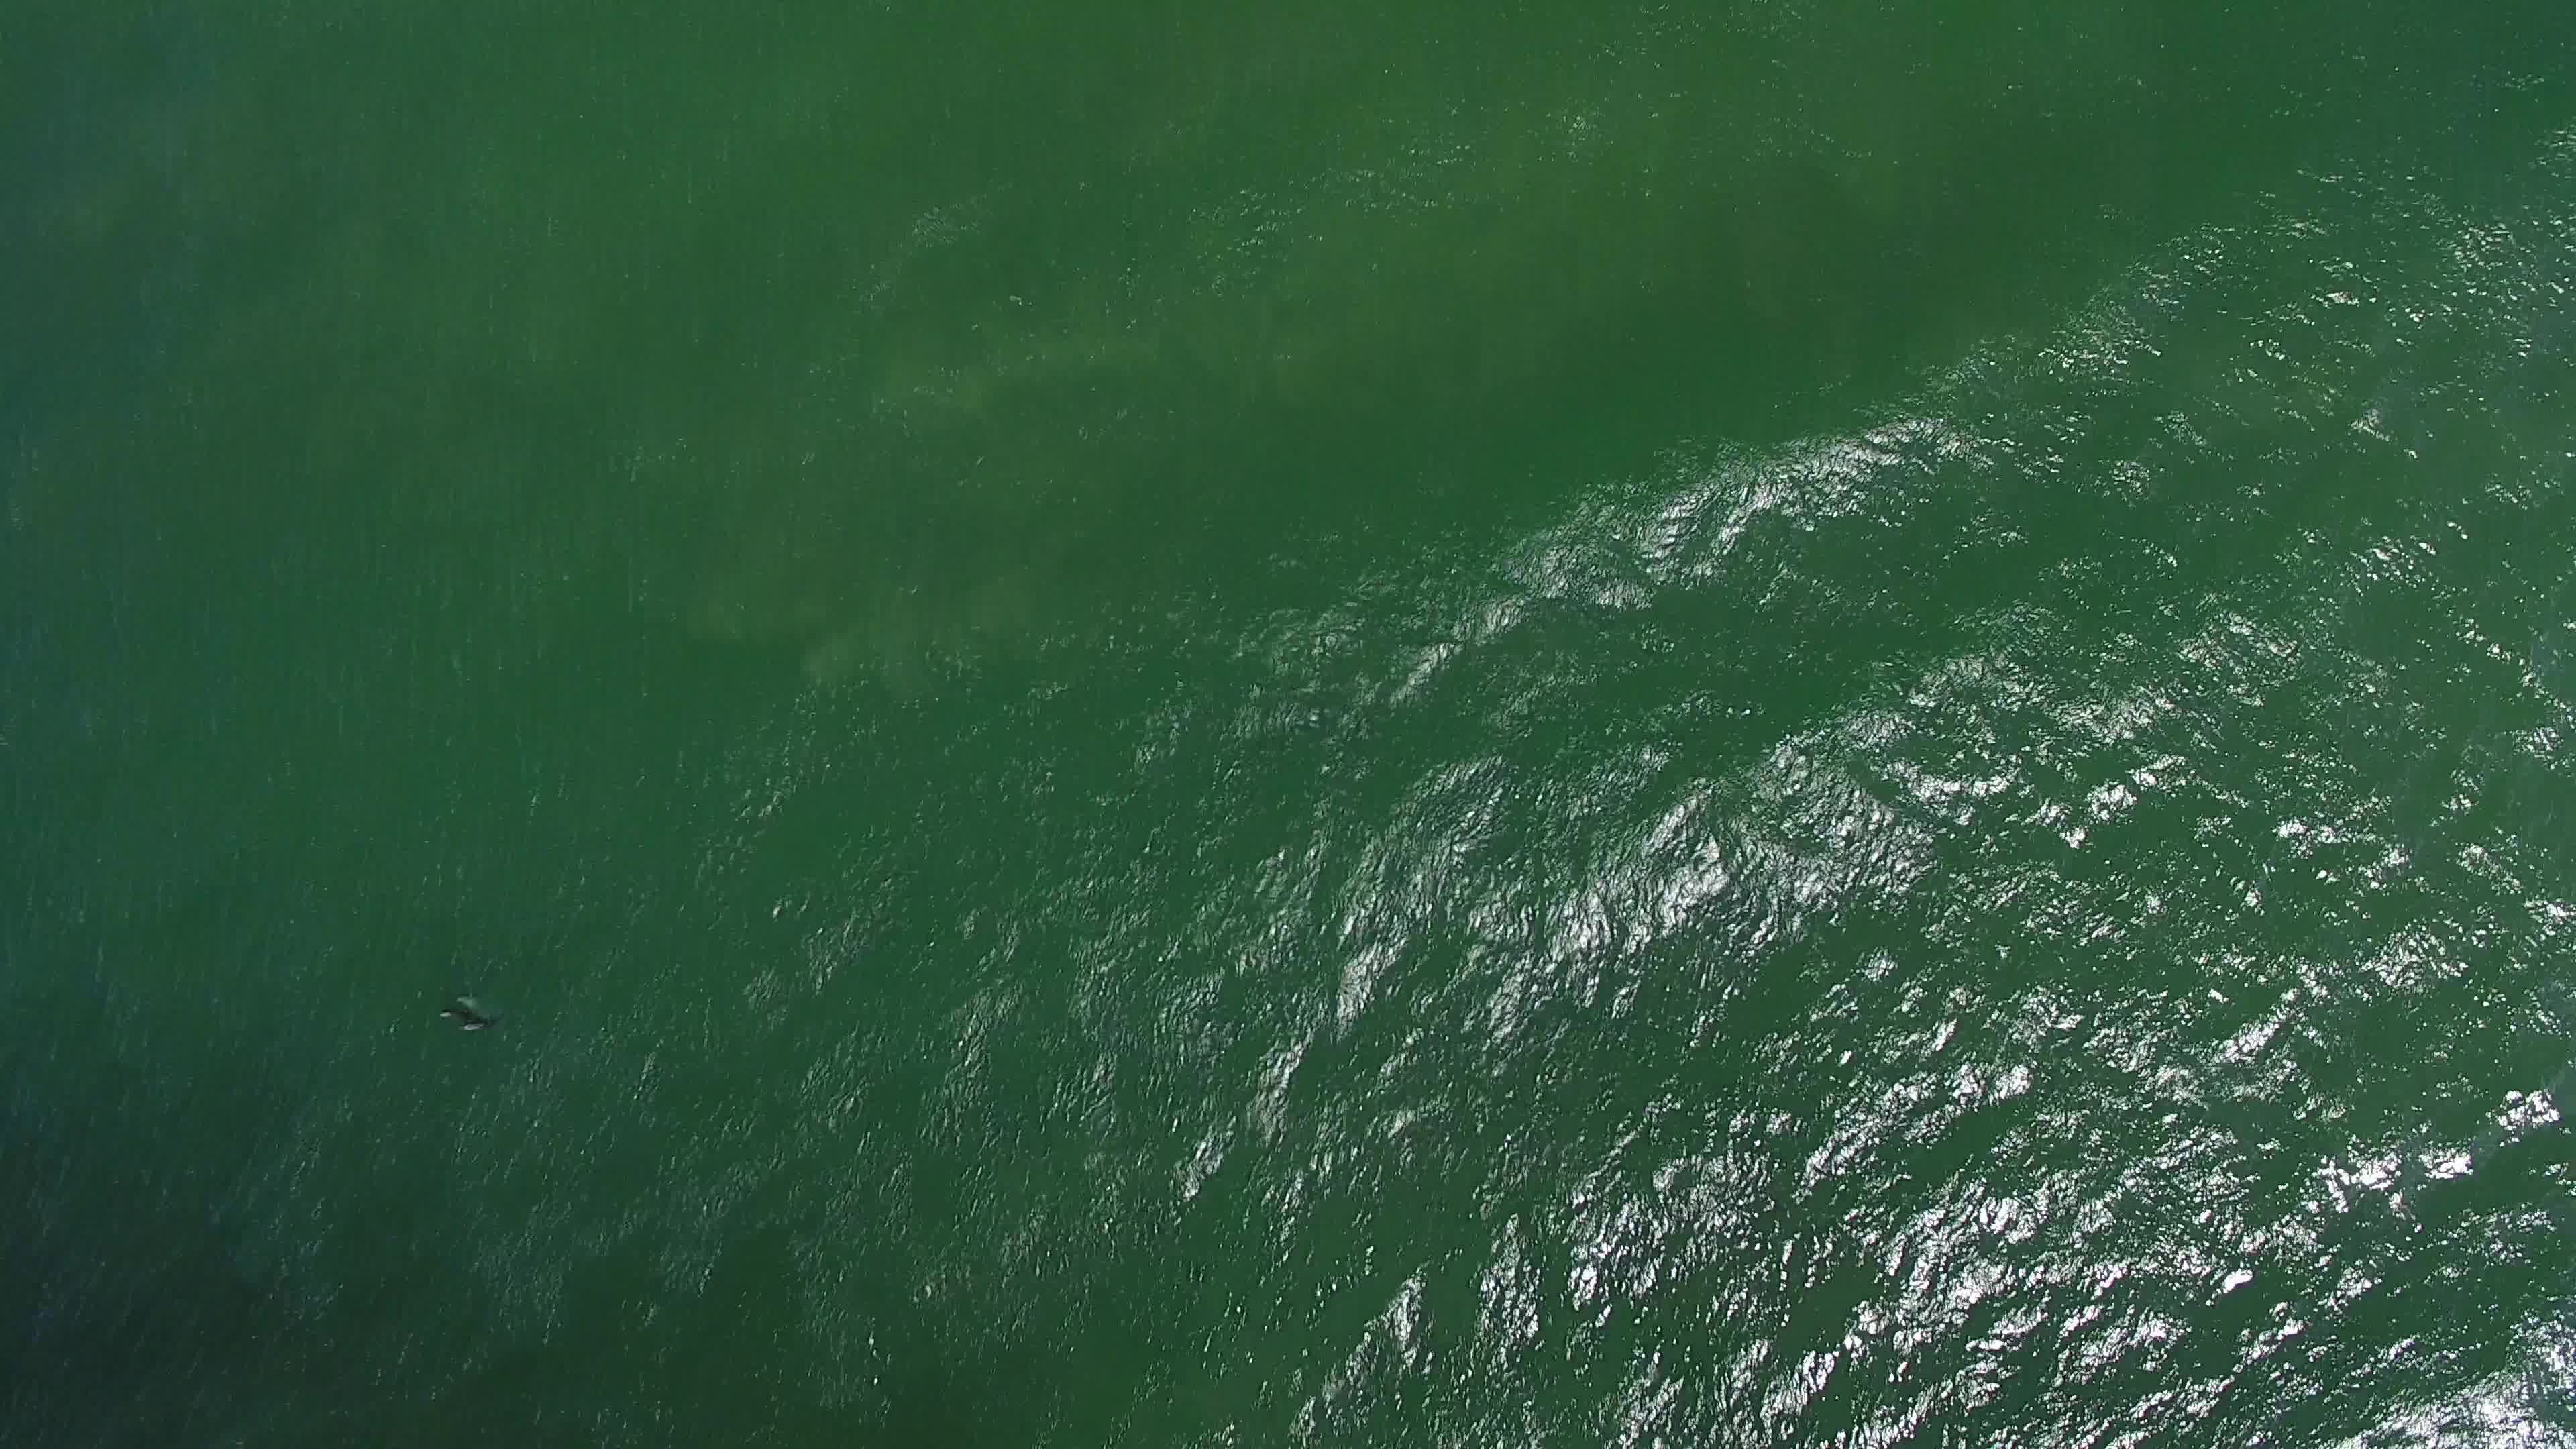dolphin: (416, 980, 515, 1044)
